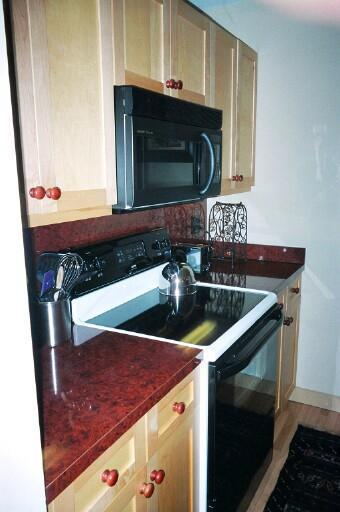Electrodomestico: (207, 296, 283, 507)
